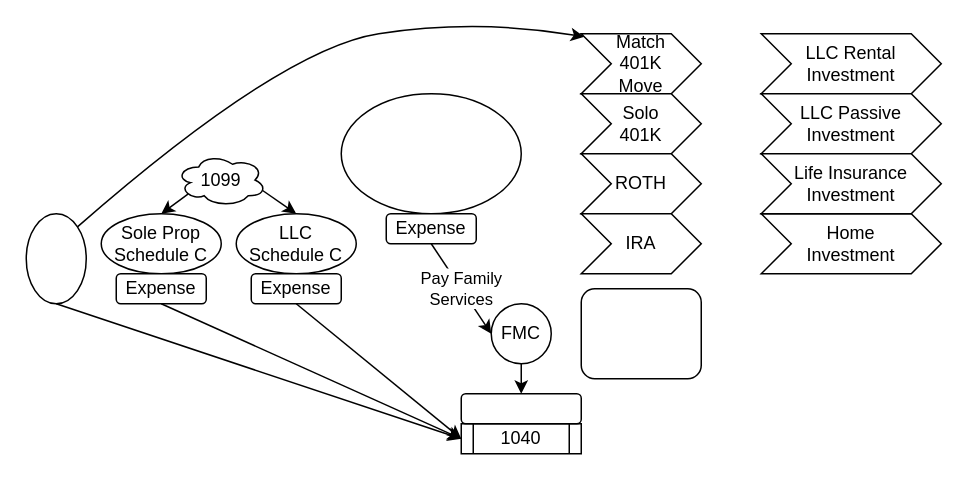
This 968x480 diagram has some shape labels left out. The shapes that lost their labels are listed below. From the top down, each one's centre as x and y in pixels, then its label:
At (430,153): "S-Corp Pay W2 Draws save SE Tax".
At (55,258): "W-2".
At (640,333): "HRA to pay for services".
At (520,408): "RLT".
